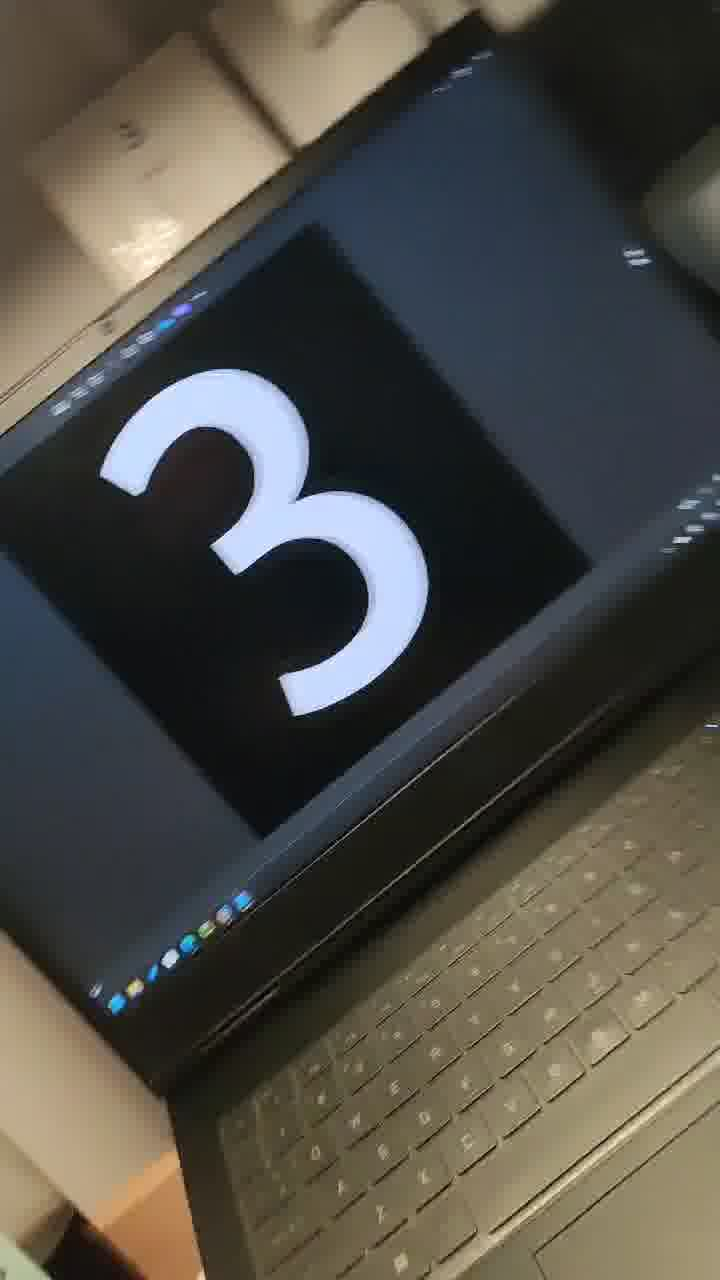three: (49, 283, 486, 854)
